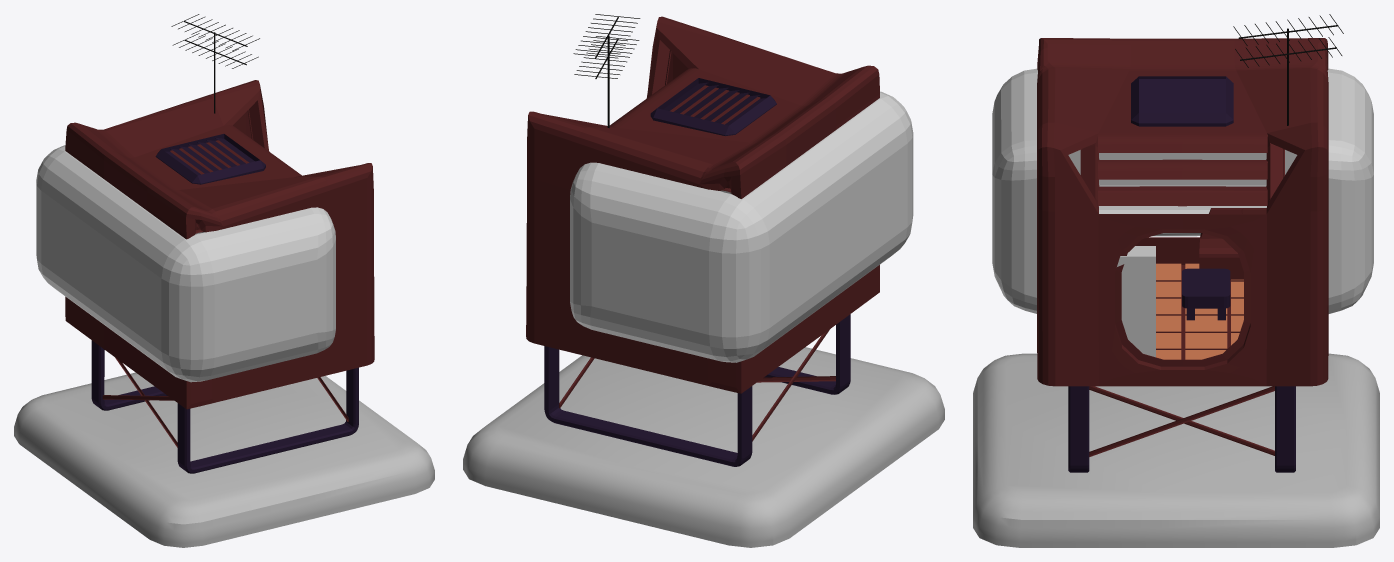
File: bLivingRoom.obj
3 views of the same model, side by side, from view 1: azimuth 30°, elevation 25°; view 2: azimuth 150°, elevation 25°; view 3: azimuth 270°, elevation 25° (orthographic). The views are drawn at different scales.
Parts seen in each view (by area): view 1: Cutter.005_Cutter.001, Cube.004, Cube.002, Circle.001, Plane, Cylinder.001, Plane.002; view 2: Cube.004, Cutter.005_Cutter.001, Cube.002, Circle.001, Plane, Cylinder.001, Plane.002; view 3: Cube.002, Cutter.005_Cutter.001, Cube.004, Cube.005, Plane, Circle.001, Cube.007, Plane.001, Cube.009, Cube.021_Cube.022, Cylinder.001.
Part boxes in pixels (bbox=[...]): Cutter.005_Cutter.001: bbox=[14, 372, 434, 547]; Cube.004: bbox=[36, 145, 335, 382]; Cube.002: bbox=[65, 80, 374, 409]; Circle.001: bbox=[91, 340, 358, 473]; Plane: bbox=[155, 134, 265, 184]; Cylinder.001: bbox=[171, 14, 259, 113]; Plane.002: bbox=[102, 357, 177, 447]; Cube.004: bbox=[570, 91, 913, 362]; Cutter.005_Cutter.001: bbox=[463, 347, 944, 547]; Cube.002: bbox=[526, 16, 879, 393]; Circle.001: bbox=[544, 314, 850, 466]; Plane: bbox=[650, 78, 776, 135]; Cylinder.001: bbox=[573, 14, 640, 128]; Plane.002: bbox=[752, 329, 835, 441]; Cube.002: bbox=[1037, 38, 1328, 386]; Cutter.005_Cutter.001: bbox=[973, 353, 1379, 547]; Cube.004: bbox=[992, 68, 1373, 313]; Cube.005: bbox=[1156, 263, 1243, 359]; Plane: bbox=[1131, 76, 1233, 126]; Circle.001: bbox=[1068, 386, 1295, 472]; Cube.007: bbox=[1117, 246, 1155, 357]; Plane.001: bbox=[1089, 386, 1274, 456]; Cube.009: bbox=[1182, 268, 1230, 320]; Cube.021_Cube.022: bbox=[1199, 208, 1266, 279]; Cylinder.001: bbox=[1233, 14, 1343, 125].
Bounding box in the file's own units: 2.91 × 3.8 × 3.05.
